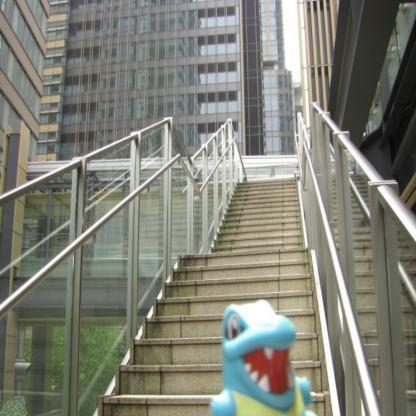stair: (145, 170, 314, 416)
